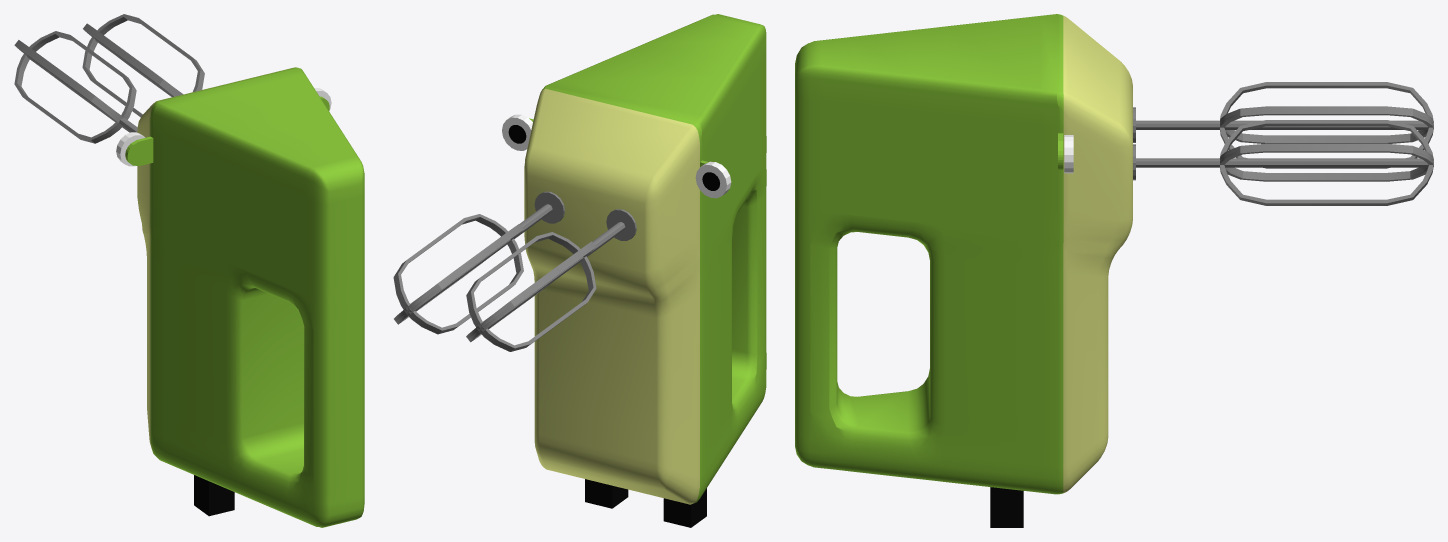
File: mixer.glb
The picture shows the model from 3 angles, left to right: view 1: azimuth 30°, elevation 25°; view 2: azimuth 150°, elevation 25°; view 3: azimuth 270°, elevation 25°; orthographic projection. The views are drawn at different scales.
Parts seen in each view (by area): view 1: Plane.002; view 2: Plane.002; view 3: Plane.002.
Boxes of the visible parts, left/top/right/bottom form: Plane.002: left=14, top=14, right=364, bottom=527; Plane.002: left=393, top=14, right=766, bottom=527; Plane.002: left=795, top=14, right=1433, bottom=527.
Size of the model in its own units: 1.9 by 3.42 by 4.42.
